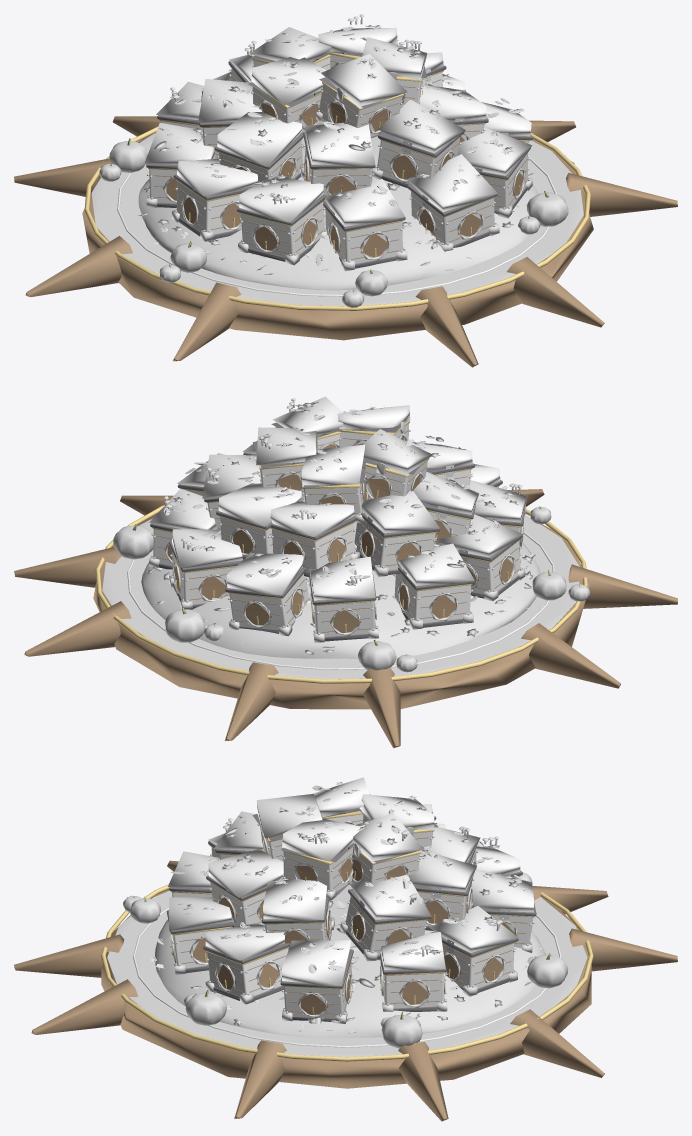
File: HollowPile.glb
The picture shows the model from 3 angles, top to bottom: view 1: azimuth 30°, elevation 25°; view 2: azimuth 150°, elevation 25°; view 3: azimuth 270°, elevation 25°; orthographic projection. The views are drawn at different scales.
Visible parts, largest first — view 1: Ring, Bark, StumpTop, Leafpile, Iron, Glow, Leaf3, MushStem, Leaf2, Leaf; view 2: Ring, Bark, StumpTop, Leafpile, Iron, Glow, Leaf3, MushStem, Leaf2, Leaf; view 3: Ring, Bark, StumpTop, Leafpile, Iron, Glow, Leaf3, Leaf2, Leaf, MushStem.
Boxes of the visible parts, box(x1,y1,x2,y2) form: Ring: box(117, 27, 556, 296); Bark: box(14, 60, 677, 367); StumpTop: box(91, 62, 583, 306); Leafpile: box(137, 14, 537, 290); Iron: box(146, 40, 532, 268); Glow: box(84, 44, 590, 310); Leaf3: box(109, 28, 568, 296); MushStem: box(99, 17, 540, 307); Leaf2: box(161, 28, 514, 274); Leaf: box(157, 25, 533, 270); Ring: box(127, 396, 554, 669); Bark: box(14, 430, 677, 748); StumpTop: box(102, 421, 579, 679); Leafpile: box(141, 398, 540, 658); Iron: box(150, 422, 524, 641); Glow: box(95, 421, 587, 683); Leaf3: box(113, 402, 566, 670); MushStem: box(165, 401, 590, 672); Leaf2: box(152, 406, 535, 632); Leaf: box(155, 402, 529, 643); Ring: box(133, 777, 561, 1047); Bark: box(14, 820, 677, 1121); StumpTop: box(107, 794, 587, 1056); Leafpile: box(155, 785, 545, 1038); Iron: box(166, 807, 536, 1022); Glow: box(101, 811, 593, 1061); Leaf3: box(130, 788, 568, 1048); Leaf2: box(170, 781, 529, 1030); Leaf: box(150, 785, 542, 1032); MushStem: box(123, 821, 537, 1026).
Bounding box in the file's own units: 33.37 × 10.91 × 33.75.
